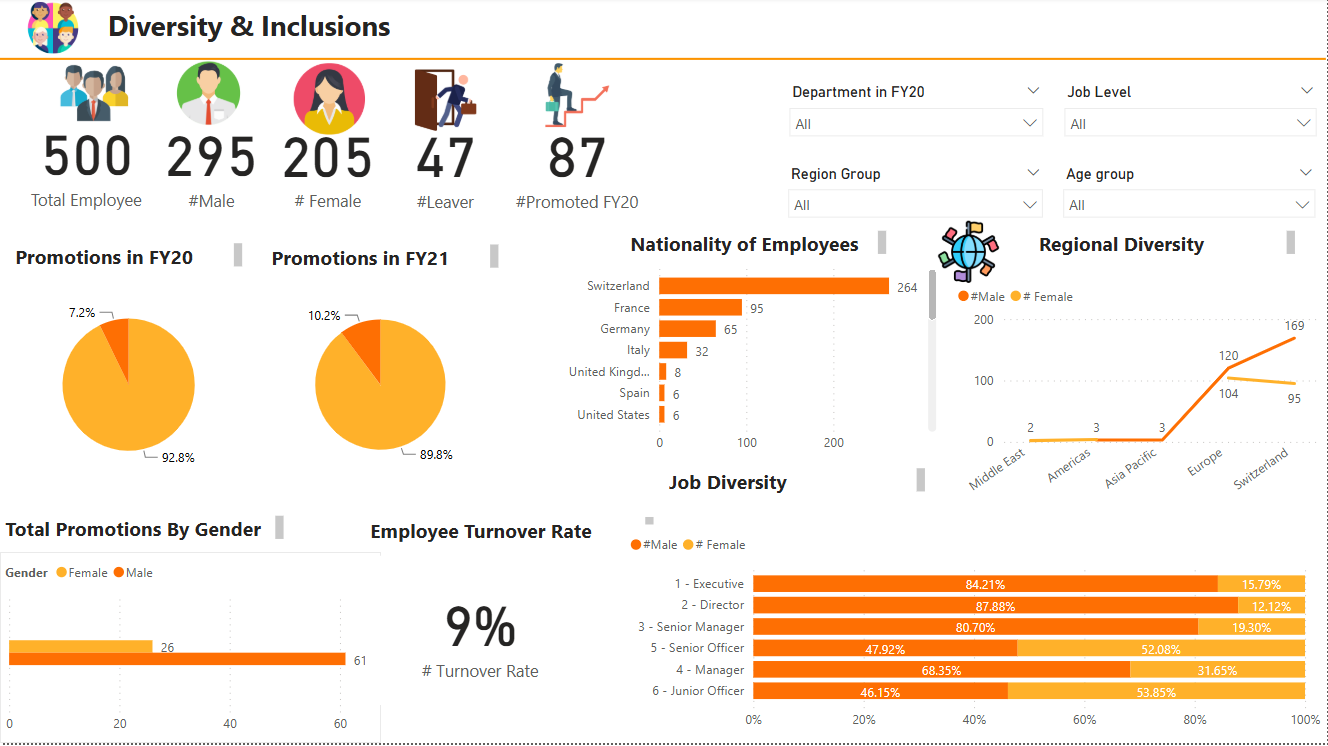

The page's visual inventory and layout, read from the dashboard file:
{"tool":"powerbi","page":{"name":"Page 3","canvas":[1280,720],"ordinal":2},"visuals":[{"type":"textbox","box":[49.4,0,1180.7,51.9],"z":0},{"type":"shape","box":[0,39.8,1279.6,25.3],"z":1000},{"type":"slicer","fields":{"Values":["Pharma Group AG.Last Department in FY20"]},"box":[750.9,78.3,264.8,64.6],"z":2000},{"type":"slicer","fields":{"Values":["Pharma Group AG.Job Level after FY21 promotions"]},"box":[1016.9,78.3,263.6,64.6],"z":3000},{"type":"slicer","fields":{"Values":["Pharma Group AG.Age group"]},"box":[1015.7,156.6,263.6,64.6],"z":4000},{"type":"slicer","fields":{"Values":["Pharma Group AG.Broad region group: nationality 1"]},"box":[749.7,156.6,266,64.6],"z":5000},{"type":"card","fields":{"Values":["CountNonNull(Pharma Group AG.Employee ID)"]},"box":[0,103.2,166.6,106.9],"z":6000},{"type":"card","fields":{"Values":["Pharma Group AG.#Male"]},"box":[147.9,103.2,111.9,108.2],"z":7000},{"type":"card","fields":{"Values":["Pharma Group AG.# Female"]},"box":[259.8,104.4,114.4,106.9],"z":8000},{"type":"card","fields":{"Values":["CountNonNull(Pharma Group AG.Leaver FY)"]},"box":[374.2,104.4,111.9,108.2],"z":9000},{"type":"card","fields":{"Values":["Pharma Group AG.#Total Number of Promotions"]},"box":[486.1,106.9,141.7,103.2],"z":10000},{"type":"pieChart","fields":{"Y":["CountNonNull(Pharma Group AG.Promotion in FY20?)"],"Category":["Pharma Group AG.Promotion in FY20?"]},"box":[0,281,248.6,186.5],"z":11000},{"type":"pieChart","fields":{"Category":["Pharma Group AG.Promotion in FY21?"],"Y":["CountNonNull(Pharma Group AG.Promotion in FY21?)"]},"box":[248.6,281,237.5,186.5],"z":12000},{"type":"textbox","box":[9.9,232.5,228.8,33.6],"z":13000},{"type":"textbox","box":[257.3,233.7,228.8,33.6],"z":14000},{"type":"textbox","box":[0,496,278.5,33.6],"z":15000},{"type":"textbox","box":[351.8,497.3,283.5,33.6],"z":16000},{"type":"textbox","box":[603,221.3,257.3,33.6],"z":17000},{"type":"textbox","box":[997.1,221.3,257.3,33.6],"z":18000},{"type":"textbox","box":[640.3,450,257.3,33.6],"z":19000},{"type":"clusteredBarChart","fields":{"Y":["Pharma Group AG.#Total Number of Promotions"],"Series":["Pharma Group AG.Gender"]},"box":[0,535.8,368,184],"z":20000},{"type":"clusteredBarChart","fields":{"Y":["CountNonNull(Pharma Group AG.Nationality 1)"],"Category":["Pharma Group AG.Nationality 1"]},"box":[528.4,249.9,380.4,198.9],"z":21000},{"type":"hundredPercentStackedBarChart","fields":{"Category":["Pharma Group AG.Job Level after FY21 promotions"],"Y":["Pharma Group AG.#Male","Pharma Group AG.# Female"]},"box":[603,508.5,676.3,206.4],"z":22000},{"type":"lineChart","fields":{"Category":["Pharma Group AG.Region group: nationality 1"],"Y":["Pharma Group AG.#Male","Pharma Group AG.# Female"]},"box":[918.7,268.5,360.5,227.5],"z":23000},{"type":"card","fields":{"Values":["Pharma Group AG.# Turnover Rate"]},"box":[351.8,539.6,222.5,144.2],"z":23001},{"type":"image","box":[49.4,54.3,83.2,77.2],"z":23002},{"type":"image","box":[164,55.5,74.8,74.8],"z":23003},{"type":"image","box":[276.2,59.1,83.2,78.4],"z":23004},{"type":"image","box":[515,59.1,83.2,71.2],"z":23005},{"type":"image","box":[388.3,65.1,83.2,68.7],"z":23006},{"type":"image","box":[897.3,211.1,74.8,69.9],"z":23007}]}

Visuals, with their boxes in screenshot pixels (x1, y1, x2, y2), scaled from the page's 1280x720 canvas onto the 1328x746 screenshot:
textbox: (51,0,1276,54)
shape: (0,41,1327,67)
slicer - Pharma Group AG.Last Department in FY20: (779,81,1054,148)
slicer - Pharma Group AG.Job Level after FY21 promotions: (1055,81,1327,148)
slicer - Pharma Group AG.Age group: (1054,162,1327,229)
slicer - Pharma Group AG.Broad region group: nationality 1: (778,162,1054,229)
card - CountNonNull(Pharma Group AG.Employee ID): (0,107,173,218)
card - Pharma Group AG.#Male: (153,107,270,219)
card - Pharma Group AG.# Female: (270,108,388,219)
card - CountNonNull(Pharma Group AG.Leaver FY): (388,108,504,220)
card - Pharma Group AG.#Total Number of Promotions: (504,111,651,218)
pieChart - CountNonNull(Pharma Group AG.Promotion in FY20?) x Pharma Group AG.Promotion in FY20?: (0,291,258,484)
pieChart - Pharma Group AG.Promotion in FY21? x CountNonNull(Pharma Group AG.Promotion in FY21?): (258,291,504,484)
textbox: (10,241,248,276)
textbox: (267,242,504,277)
textbox: (0,514,289,549)
textbox: (365,515,659,550)
textbox: (626,229,893,264)
textbox: (1034,229,1301,264)
textbox: (664,466,931,501)
clusteredBarChart - Pharma Group AG.#Total Number of Promotions x Pharma Group AG.Gender: (0,555,382,745)
clusteredBarChart - CountNonNull(Pharma Group AG.Nationality 1) x Pharma Group AG.Nationality 1: (548,259,943,465)
hundredPercentStackedBarChart - Pharma Group AG.Job Level after FY21 promotions x Pharma Group AG.#Male: (626,527,1327,741)
lineChart - Pharma Group AG.Region group: nationality 1 x Pharma Group AG.#Male: (953,278,1327,514)
card - Pharma Group AG.# Turnover Rate: (365,559,596,708)
image: (51,56,138,136)
image: (170,58,248,135)
image: (287,61,373,142)
image: (534,61,621,135)
image: (403,67,489,139)
image: (931,219,1009,291)
